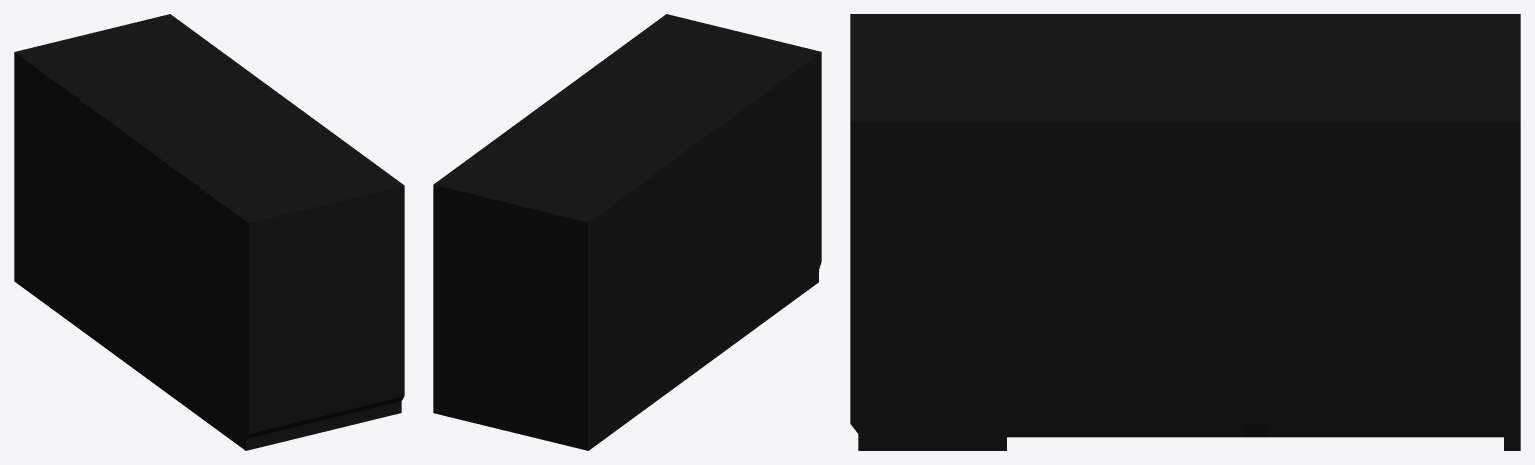
Rendered from CoffShop_Celing_02.fbx.
3 renders of one model, left to right at view 1: azimuth 30°, elevation 25°; view 2: azimuth 150°, elevation 25°; view 3: azimuth 270°, elevation 25°, orthographic. The views are drawn at different scales.
Visible parts, largest first — view 1: CoffShop_Celing_02; view 2: CoffShop_Celing_02; view 3: CoffShop_Celing_02.
Boxes of the visible parts, bbox=[...] form: CoffShop_Celing_02: bbox=[14, 14, 404, 450]; CoffShop_Celing_02: bbox=[433, 14, 821, 450]; CoffShop_Celing_02: bbox=[850, 14, 1520, 450].
Bounding box in the file's own units: 100 × 141 × 261.
